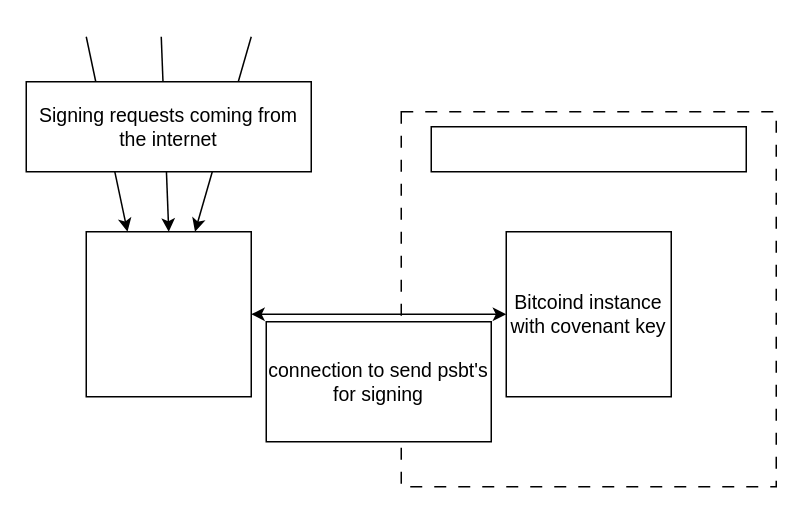
Image size: 803x513. Some labels were removed from this diagram. Each missing label, with the centre of its shape:
"Firewalled/secured network zone" goes at point (588, 148).
"Signing Server Open to Signing Requests" goes at point (168, 313).
